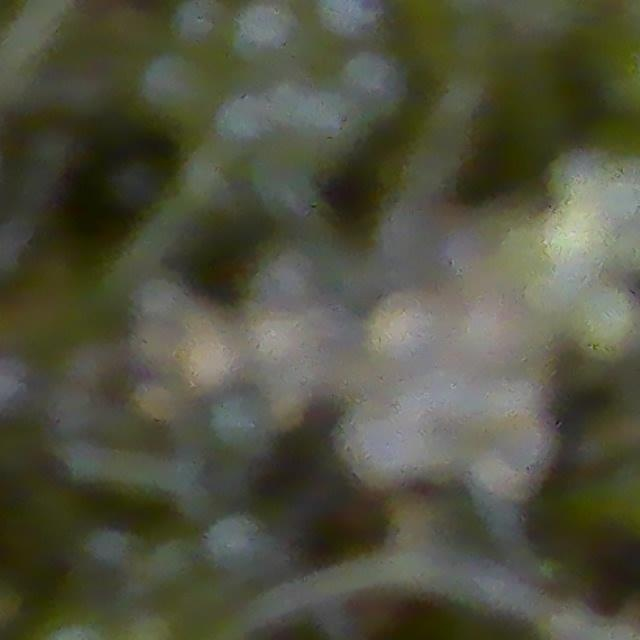SeaGrape: (134, 47, 218, 130), (338, 49, 406, 119), (230, 0, 299, 60), (169, 0, 229, 51)
